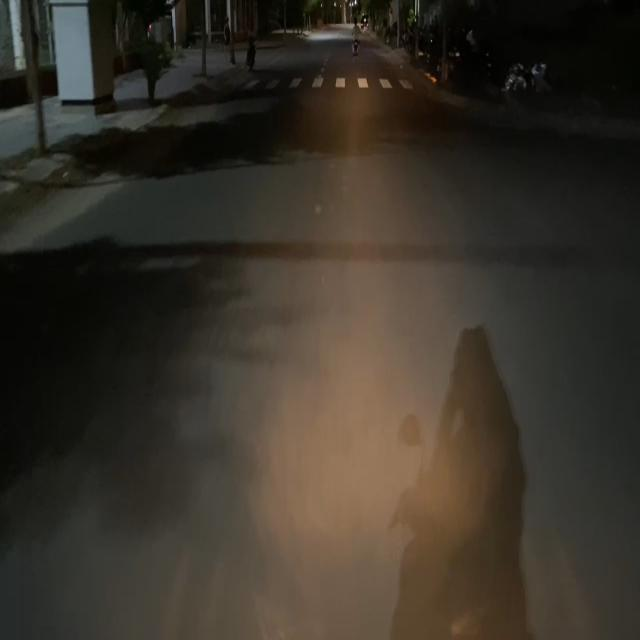walk-crossing: (236, 70, 419, 95)
